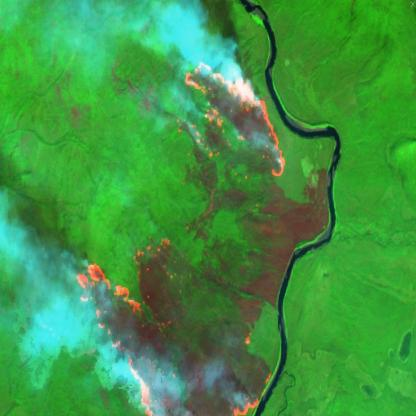fire: (75, 59, 286, 416)
